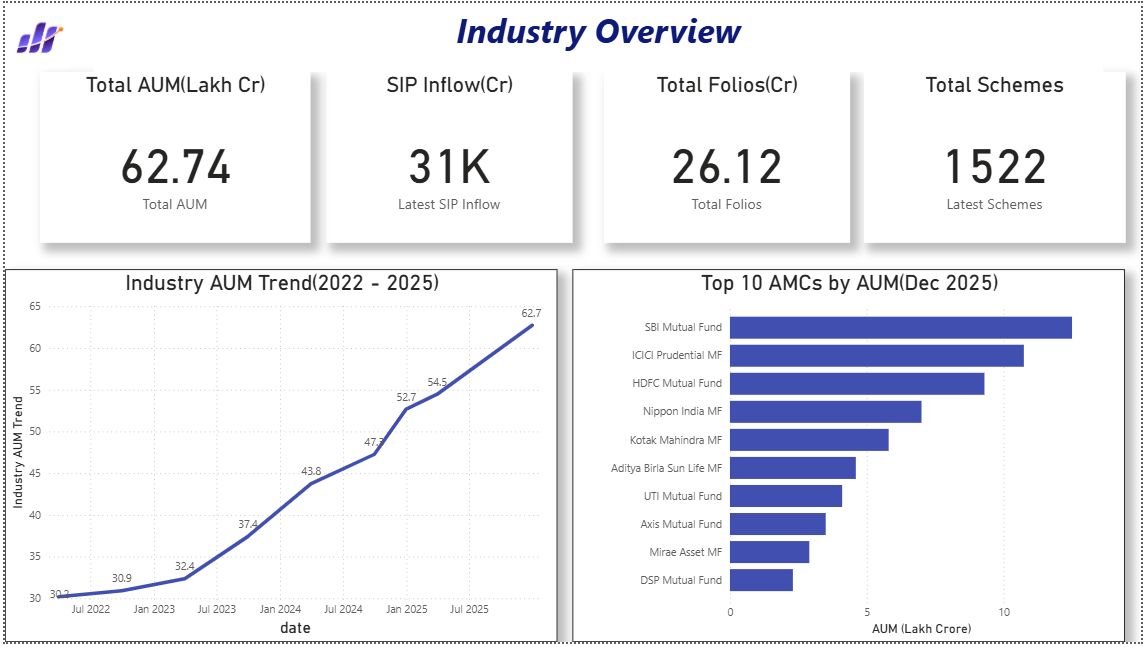

The page's visual inventory and layout, read from the dashboard file:
{"tool":"powerbi","page":{"name":"Page 1 - Industry Overview","canvas":[1280,720],"ordinal":0},"visuals":[{"type":"card","title":"SIP Inflow(Cr)","fields":{"Values":["04_monthly_sip_inflows.Latest SIP Inflow"]},"box":[382.1,0,278.2,232.1],"z":0},{"type":"card","title":"Total Folios(Cr)","fields":{"Values":["01_fund_master_cleaned.Total Folios"]},"box":[674.4,0,276.9,232.1],"z":1000},{"type":"card","title":"Total Schemes","fields":{"Values":["01_fund_master_cleaned.Latest Schemes"]},"box":[962.8,0,293.6,232.1],"z":2000},{"type":"card","title":"Total AUM(Lakh Cr)","fields":{"Values":["01_fund_master_cleaned.Total AUM"]},"box":[65.4,1.3,303.8,232.1],"z":3000},{"type":"lineChart","title":"Industry AUM Trend(2022 - 2025) ","fields":{"Category":["03_aum_by_fund_house_cleaned.date"],"Y":["01_fund_master_cleaned.Industry AUM Trend"]},"box":[0,244.9,623.1,475.6],"z":4000},{"type":"clusteredBarChart","title":"Top 10 AMCs by AUM(Dec 2025)","fields":{"Category":["03_aum_by_fund_house_cleaned.fund_house"],"Y":["01_fund_master_cleaned.Latest AMC AUM"]},"box":[639.7,244.9,623.1,475.6],"z":5000},{"type":"image","box":[0,0,78.4,78.4],"z":5001}]}

Visuals, with their boxes in screenshot pixels (x1, y1, x2, y2), scaled from the page's 1280x720 canvas onto the 1146x647 screenshot:
"SIP Inflow(Cr)" card: Rect(342, 0, 591, 209)
"Total Folios(Cr)" card: Rect(604, 0, 852, 209)
"Total Schemes" card: Rect(862, 0, 1125, 209)
"Total AUM(Lakh Cr)" card: Rect(59, 1, 331, 210)
"Industry AUM Trend(2022 - 2025) " lineChart: Rect(0, 220, 558, 646)
"Top 10 AMCs by AUM(Dec 2025)" clusteredBarChart: Rect(573, 220, 1131, 646)
image: Rect(0, 0, 70, 70)
